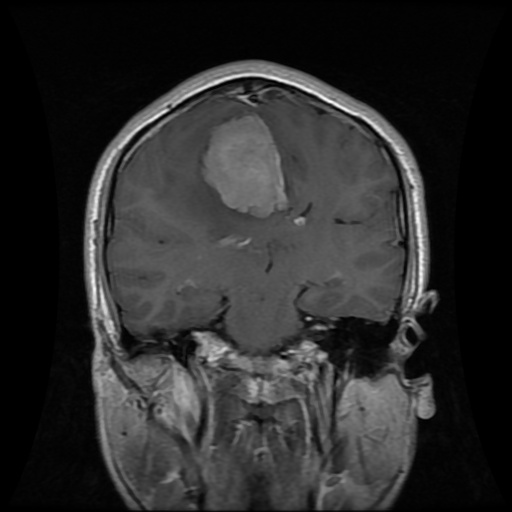meningioma: (202, 115, 288, 215)
